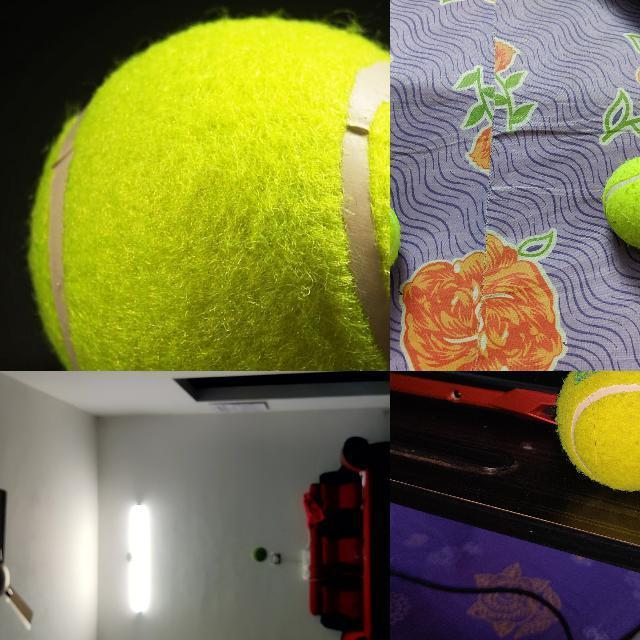tennis-ball: (27, 15, 389, 370), (553, 371, 639, 492), (602, 154, 639, 251), (252, 547, 267, 562)
